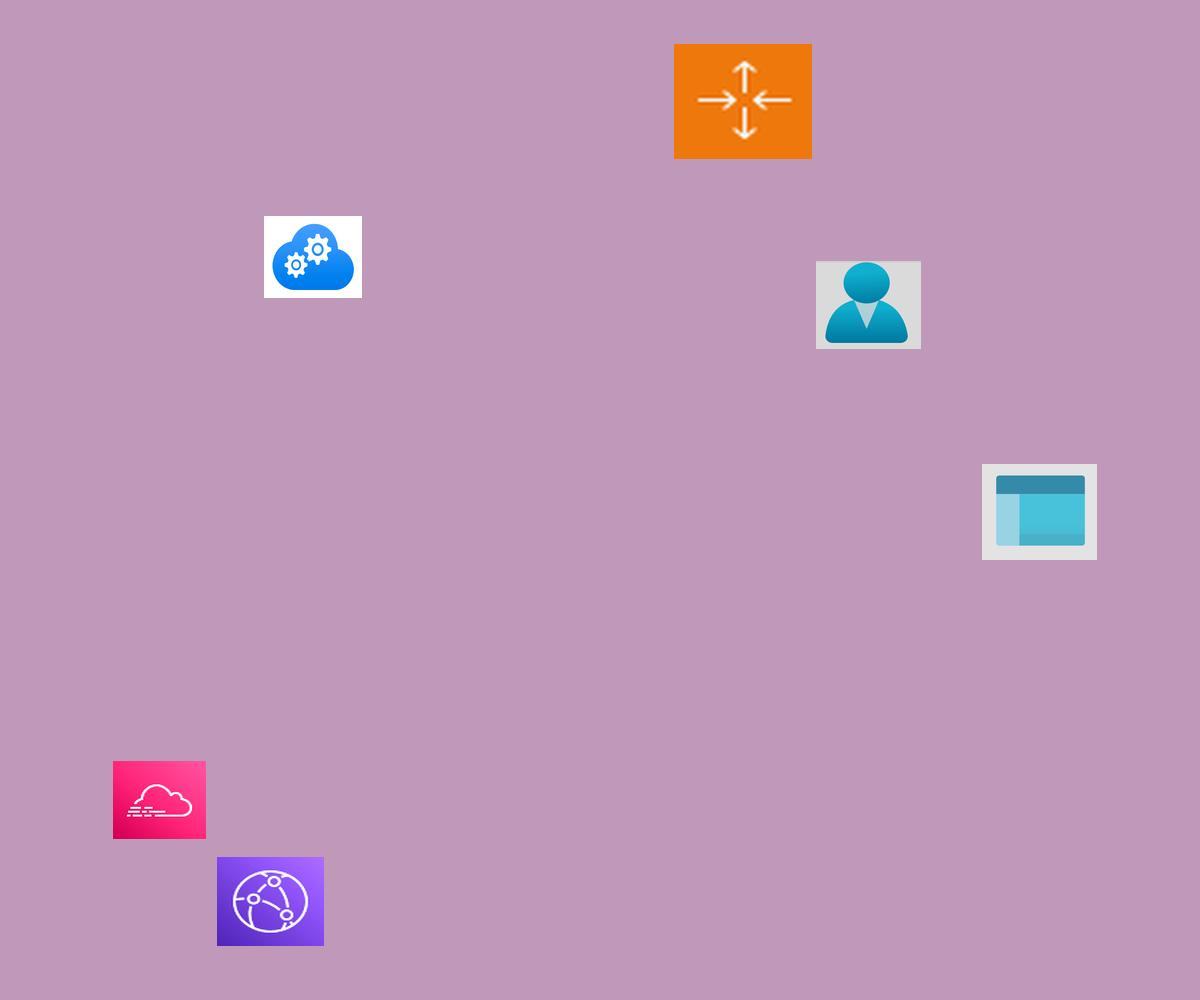AWS-CloudFront: (217, 857, 324, 946)
AWS-CloudTrail: (113, 761, 206, 839)
AWS-Scaling-group: (674, 44, 812, 159)
Azure_cloud_services: (264, 216, 362, 298)
Azure_management-portal: (982, 464, 1097, 560)
Azure_users: (816, 261, 921, 349)
